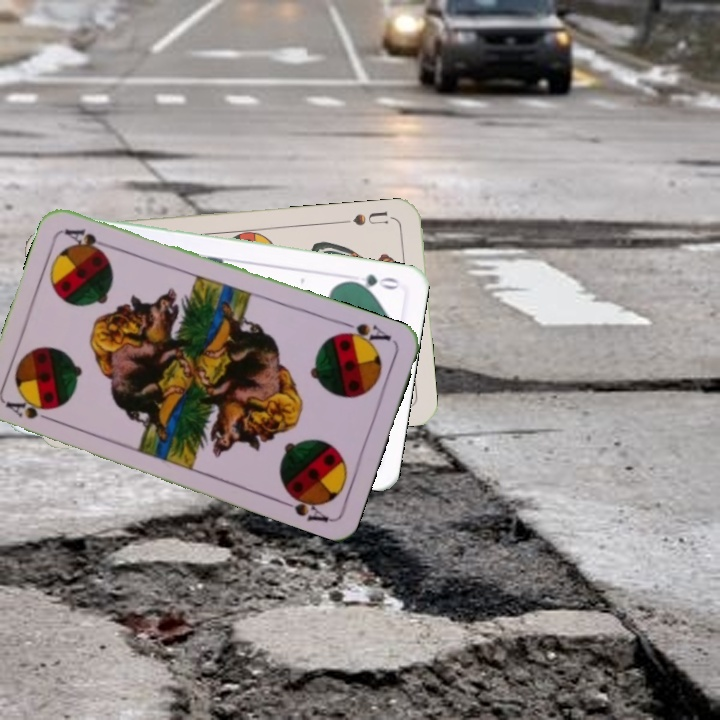GO: (343, 269, 401, 293)
SA: (334, 317, 394, 350), (2, 395, 60, 425)
SU: (338, 207, 397, 228)
